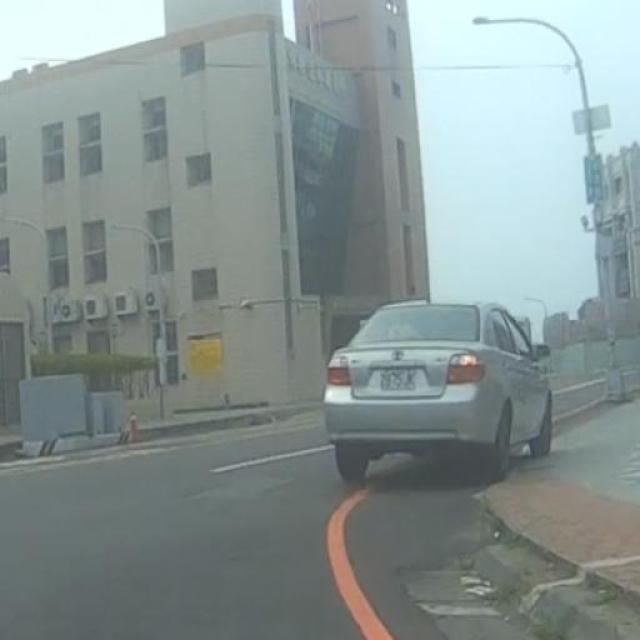illegalparking: (309, 296, 574, 488)
